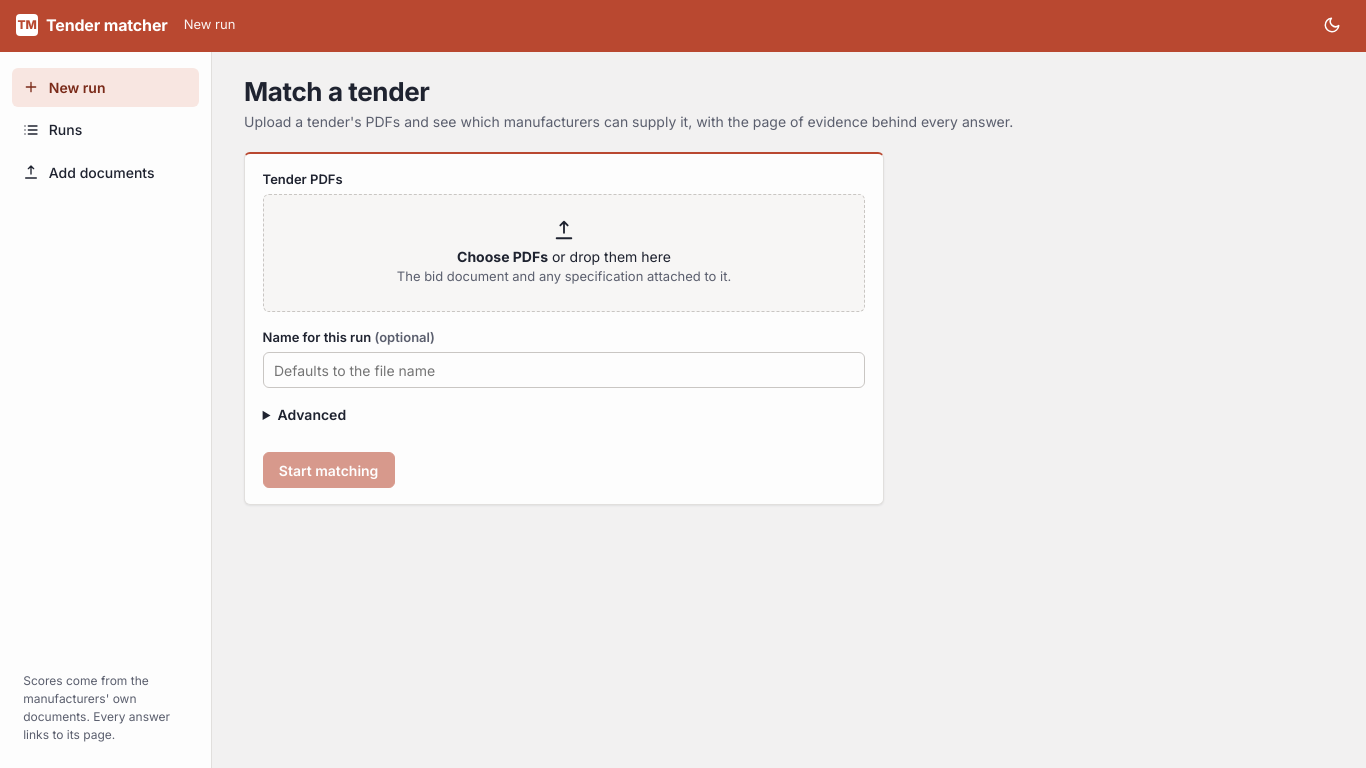
Test: adding a manufacturer document › is a page of its own, linked from the side bar
Click the link "Add documents".
click(89, 172)  # box [23,164,154,181]
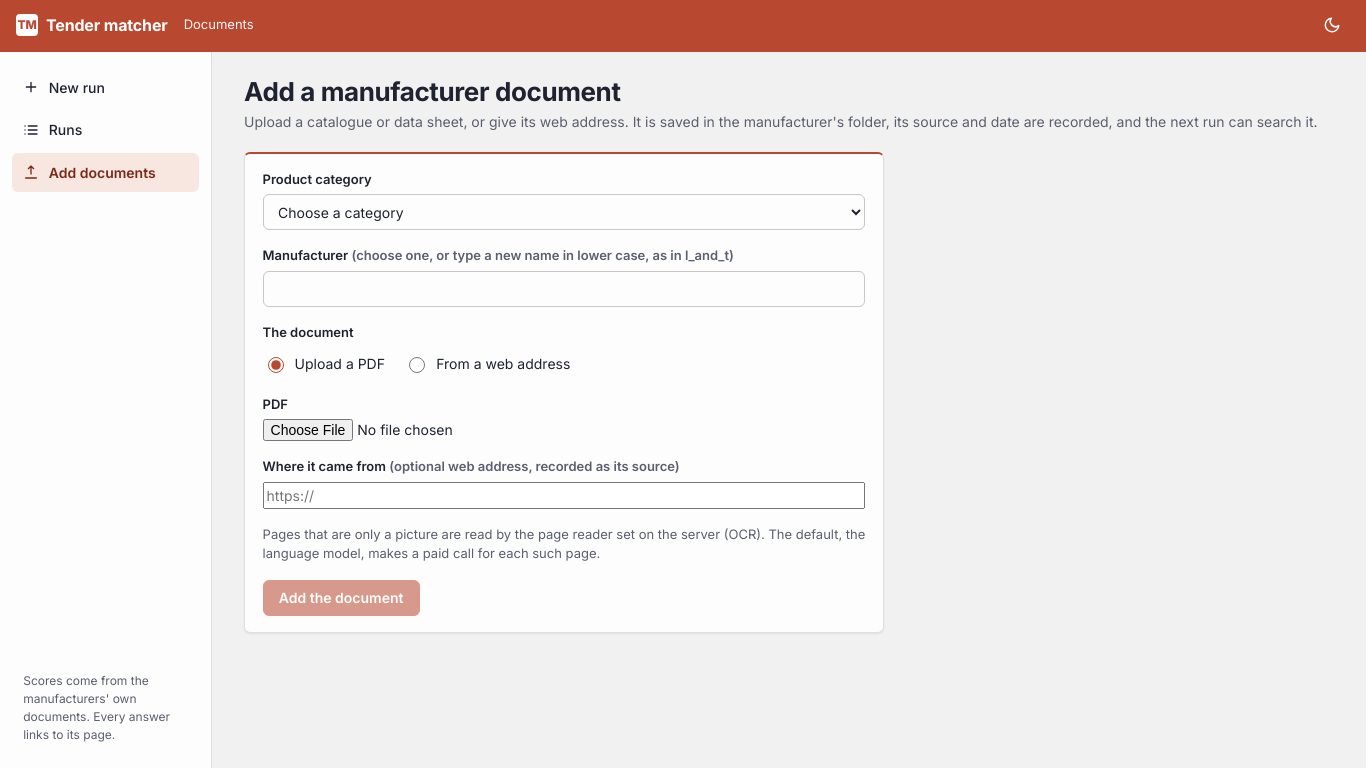
expect the heading "Add a manufacturer document" is shown: met, box [244,76,620,107]
